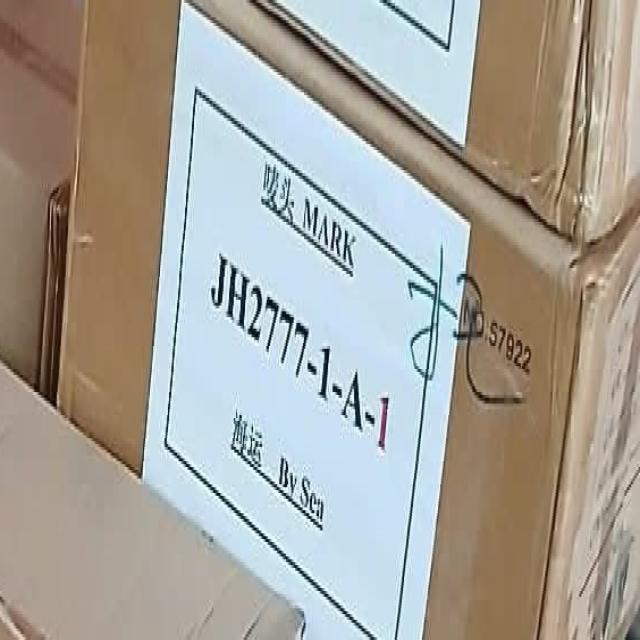carton_box: (66, 0, 640, 640)
export_mark_label: (177, 64, 413, 590)
